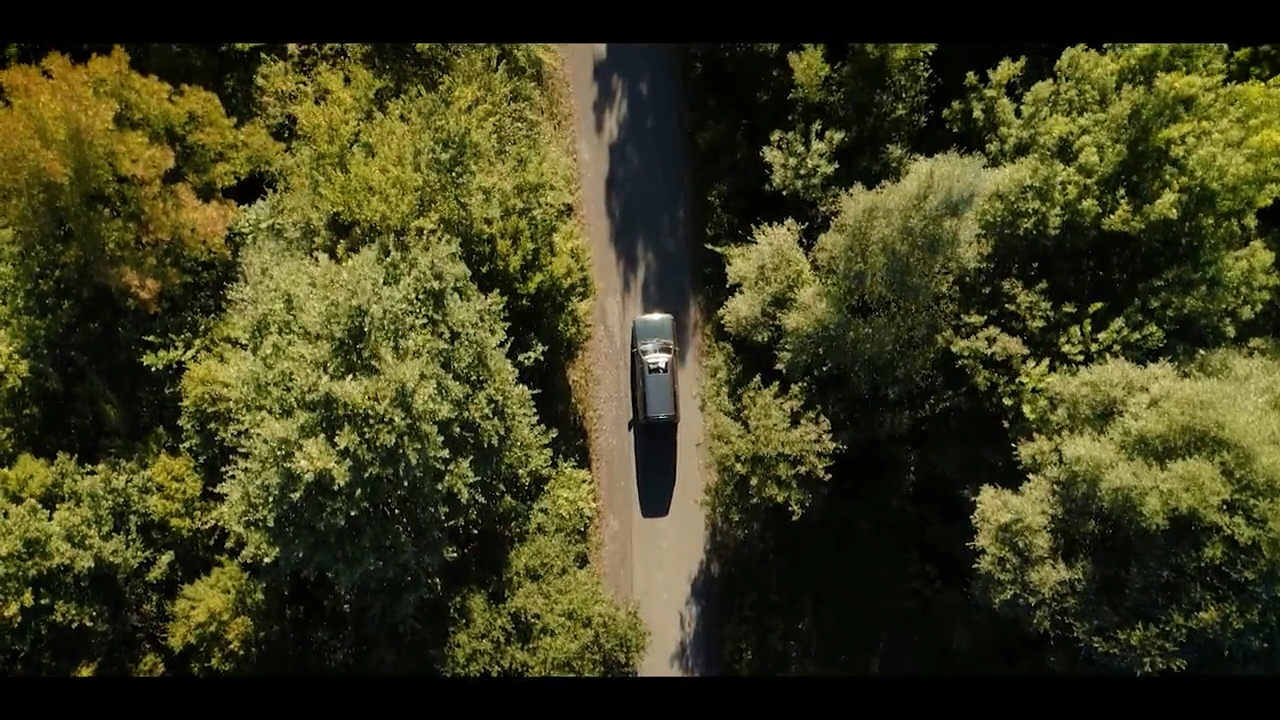araba: (629, 312, 678, 426)
